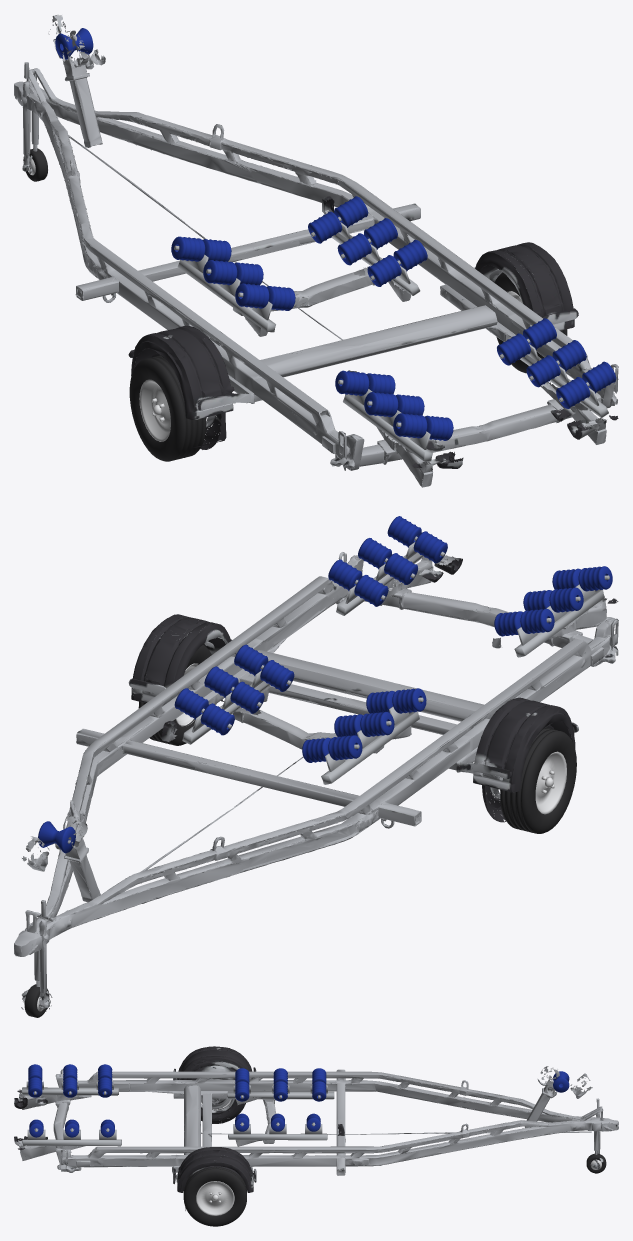
File: super-roller-ar.glb
3 renders of one model, top to bottom at view 1: azimuth 30°, elevation 25°; view 2: azimuth 150°, elevation 25°; view 3: azimuth 270°, elevation 25°, orthographic. The views are drawn at different scales.
Parts seen in each view (by area): view 1: frame, wheel_left_tyre, wheel_left_rim, roller_bank_front_left_beam, roller_bank_rear_left_beam, roller_bank_front_left_roller1l, roller_bank_rear_left_roller1l, bow_snubber, roller_bank_front_left_roller2l, roller_bank_front_left_roller0l, roller_bank_rear_left_roller2l, roller_bank_rear_left_roller0l (+12 smaller); view 2: frame, wheel_left_tyre, wheel_left_rim, roller_bank_front_left_beam, roller_bank_rear_left_beam, bow_snubber, wheel_right_tyre, roller_bank_rear_left_roller2l, roller_bank_front_left_roller1l, roller_bank_front_left_roller2l, roller_bank_front_left_roller0l, roller_bank_rear_left_roller0l (+10 smaller); view 3: frame, wheel_right_tyre, wheel_right_rim, roller_bank_front_right_beam, roller_bank_rear_right_beam, roller_bank_front_left_beam, roller_bank_rear_left_beam, bow_snubber, roller_bank_front_left_roller1r, roller_bank_front_left_roller0r, roller_bank_front_left_roller2r, roller_bank_rear_left_roller0r (+2 smaller).
Part boxes in pixels (x1,y1,x2,y2): frame: [14, 15, 618, 487]; wheel_left_tyre: [129, 355, 206, 461]; wheel_left_rim: [139, 379, 170, 441]; roller_bank_front_left_beam: [177, 259, 275, 332]; roller_bank_rear_left_beam: [343, 394, 432, 461]; roller_bank_front_left_roller1l: [203, 260, 237, 285]; roller_bank_rear_left_roller1l: [364, 392, 398, 417]; bow_snubber: [55, 28, 93, 59]; roller_bank_front_left_roller2l: [171, 236, 205, 261]; roller_bank_front_left_roller0l: [235, 283, 269, 308]; roller_bank_rear_left_roller2l: [335, 370, 369, 395]; roller_bank_rear_left_roller0l: [393, 413, 427, 438]; frame: [14, 552, 618, 1011]; wheel_left_tyre: [500, 727, 576, 833]; wheel_left_rim: [535, 751, 566, 814]; roller_bank_front_left_beam: [321, 711, 419, 784]; roller_bank_rear_left_beam: [514, 590, 604, 657]; bow_snubber: [38, 821, 75, 853]; wheel_right_tyre: [138, 644, 211, 745]; roller_bank_rear_left_roller2l: [520, 608, 554, 633]; roller_bank_front_left_roller1l: [360, 711, 394, 736]; roller_bank_front_left_roller2l: [328, 735, 362, 760]; roller_bank_front_left_roller0l: [392, 688, 426, 713]; roller_bank_rear_left_roller0l: [578, 566, 612, 591]; frame: [14, 1046, 618, 1210]; wheel_right_tyre: [183, 1167, 246, 1226]; wheel_right_rim: [196, 1181, 234, 1215]; roller_bank_front_right_beam: [228, 1133, 327, 1140]; roller_bank_rear_right_beam: [22, 1139, 121, 1146]; roller_bank_front_left_beam: [227, 1091, 334, 1099]; roller_bank_rear_left_beam: [21, 1087, 118, 1095]; bow_snubber: [553, 1071, 569, 1092]; roller_bank_front_left_roller1r: [273, 1081, 287, 1101]; roller_bank_front_left_roller0r: [235, 1081, 249, 1101]; roller_bank_front_left_roller2r: [312, 1081, 326, 1101]; roller_bank_rear_left_roller0r: [28, 1077, 42, 1097].
Bounding box in the file's own units: 2.5 × 1.07 × 5.53.
Materials: 5 (1 with a texture image).
